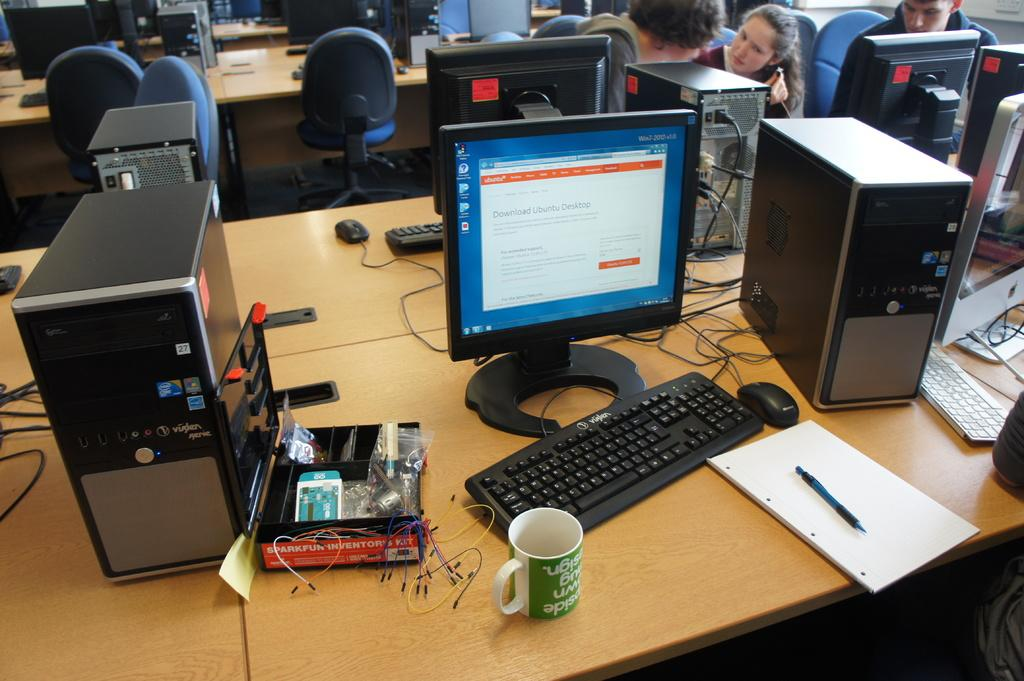Computer-keyboard: (468, 366, 764, 533), (916, 340, 1010, 447), (380, 220, 444, 246)
Computer-monitor: (439, 108, 694, 440), (425, 28, 619, 214), (844, 29, 976, 161), (0, 1, 115, 83), (283, 4, 372, 58), (83, 0, 156, 61), (210, 0, 275, 28)
